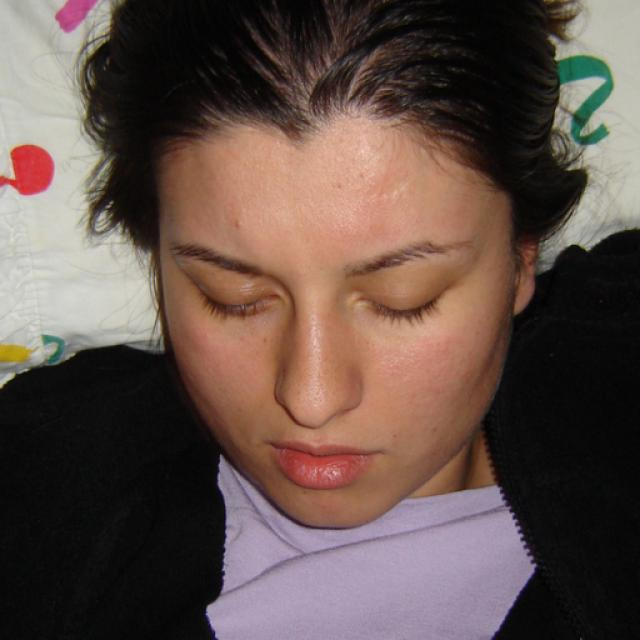Acne: (227, 217, 245, 232)
